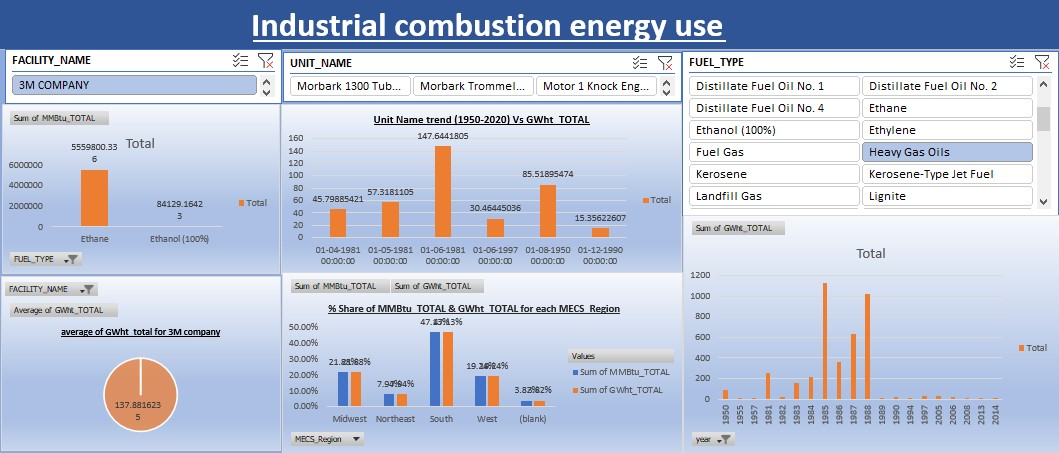

Layout of this report page (visuals, bound fields, positions):
{"tool":"powerbi","page":{"name":"DASHBOARD","canvas":[1280,720],"ordinal":0},"visuals":[{"type":"tableEx","fields":{"Values":["data_1.FUEL_TYPE","Sum(data_1.MMBtu_TOTAL)"]},"box":[19.2,163.3,621.6,94.7],"z":0},{"type":"tableEx","fields":{"Values":["data_1.FACILITY_NAME","data_1.avg_GWht_total"]},"box":[19.2,343.1,621.6,81],"z":1000},{"type":"areaChart","fields":{"Category":["data_1.year"],"Y":["Sum(data_1.GWht_TOTAL)"]},"box":[694.3,163.3,558.5,247],"z":2000},{"type":"clusteredColumnChart","fields":{"Category":["data_1.MECS_Region"],"Y":["data_1.% gwht","data_1.% mmbtu"]},"box":[690.2,424,570.8,296.4],"z":3000},{"type":"tableEx","fields":{"Values":["data_1.PRIMARY_NAICS_TITLE","data_1.FACILITY_NAME","data_1.FUEL_TYPE"]},"box":[19.2,436.4,620.2,271.7],"z":4000},{"type":"textbox","box":[0,11,1280,52.1],"z":5000},{"type":"slicer","fields":{"Values":["data_1.FUEL_TYPE"]},"box":[0,82.3,680.5,61.7],"z":6000},{"type":"slicer","fields":{"Values":["data_1.FACILITY_NAME"]},"box":[0,267.5,690.1,61.7],"z":7000},{"type":"slicer","fields":{"Values":["data_1.year"]},"box":[690.1,79.6,562.5,64.5],"z":8000}]}

Visuals, with their boxes on the page's 1280x720 design canvas (x1, y1, x2, y2). These are canvas units, not pixel positions in the 1059x453 screenshot, which may show the page scaled, cropped or inside an application window:
tableEx - data_1.FUEL_TYPE x Sum(data_1.MMBtu_TOTAL): l=19, t=163, r=641, b=258
tableEx - data_1.FACILITY_NAME x data_1.avg_GWht_total: l=19, t=343, r=641, b=424
areaChart - data_1.year x Sum(data_1.GWht_TOTAL): l=694, t=163, r=1253, b=410
clusteredColumnChart - data_1.MECS_Region x data_1.% gwht: l=690, t=424, r=1261, b=720
tableEx - data_1.PRIMARY_NAICS_TITLE x data_1.FACILITY_NAME: l=19, t=436, r=639, b=708
textbox: l=0, t=11, r=1280, b=63
slicer - data_1.FUEL_TYPE: l=0, t=82, r=680, b=144
slicer - data_1.FACILITY_NAME: l=0, t=268, r=690, b=329
slicer - data_1.year: l=690, t=80, r=1253, b=144
